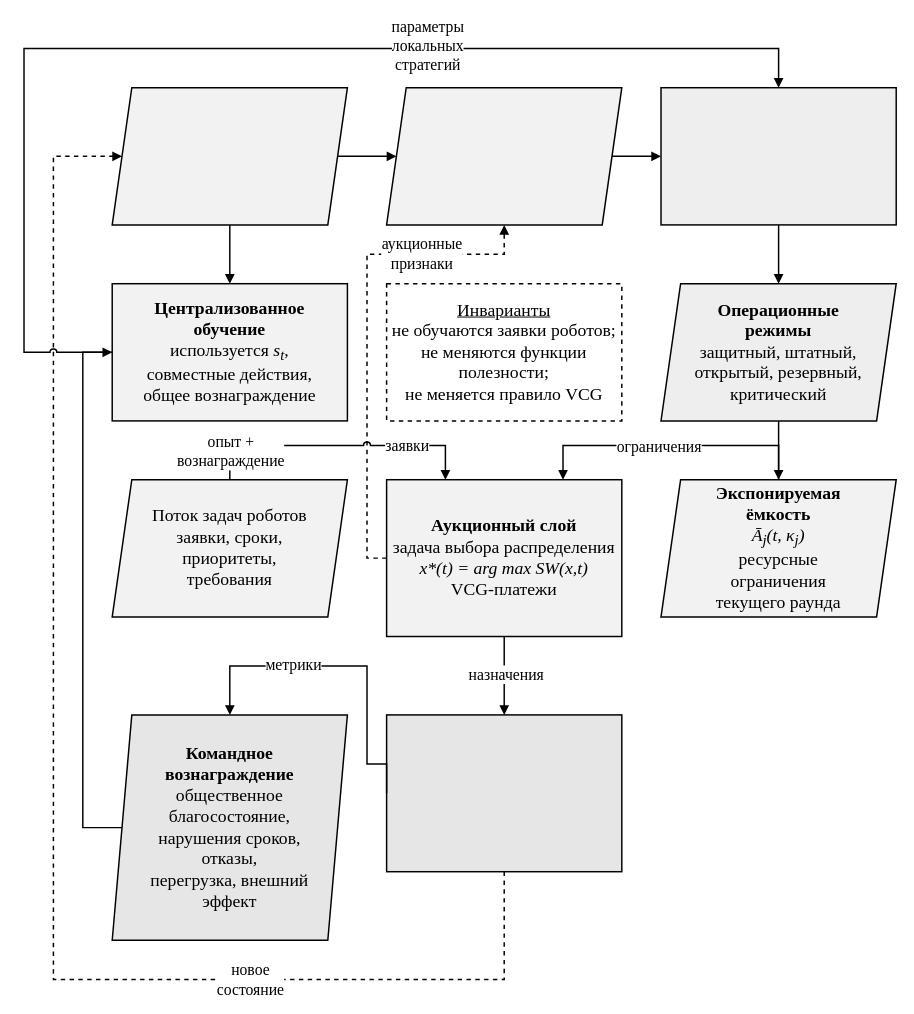
Image size: 914x1014. Some labels were removed from this diagram. The shapes that lost their labels are listed below. From the top down, each one's centre as x and y in pixels, then its label:
At (x=229, y=156): "Глобальное состояние s t очереди, загрузка, связь, задачи, отказы".
At (x=503, y=156): "Локальные наблюдения o t j технические признаки + аукционные признаки".
At (x=778, y=156): "Периферийные узлы как агенты π j (κ j | h t j ) локальный выбор режима".
At (x=503, y=793): "Исполнение задач обновление очередей, загрузки, задержек, состояний отказов".
